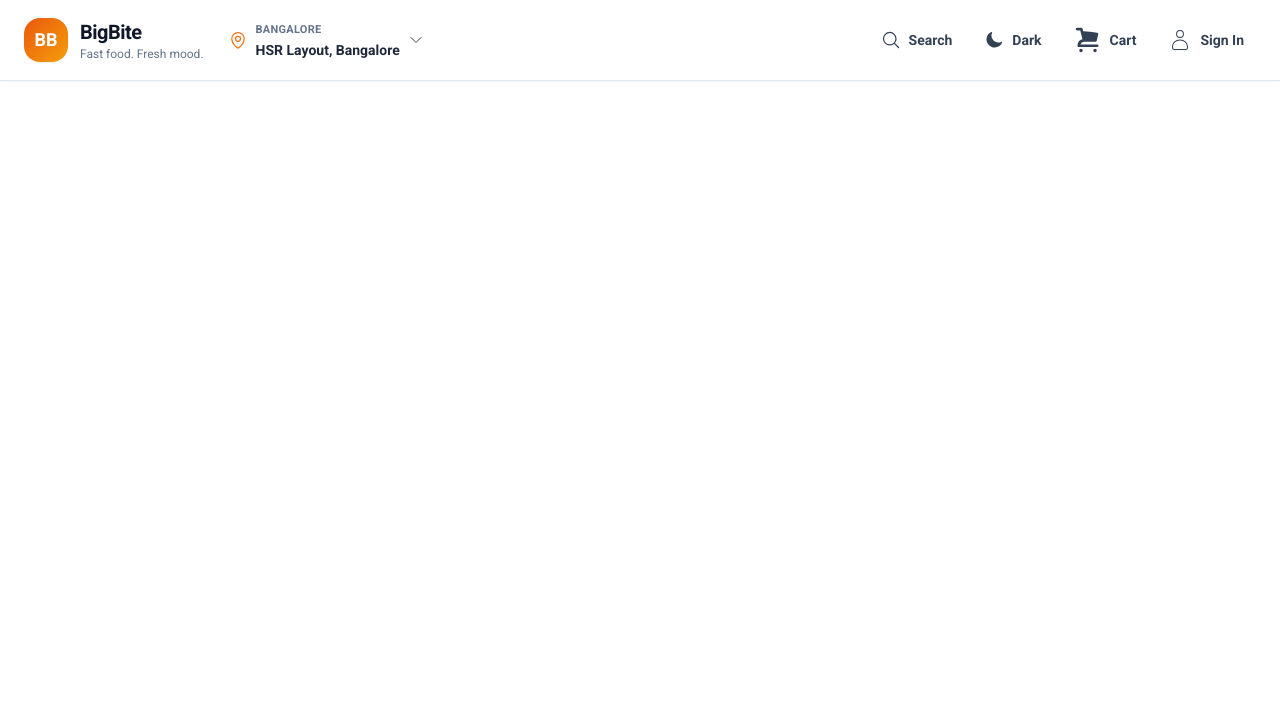
Scenario: Header Component › renders cart panel when cart is clicked while logged out
Click the button "Cart" at [1105, 40], box [1062,18,1148,62]
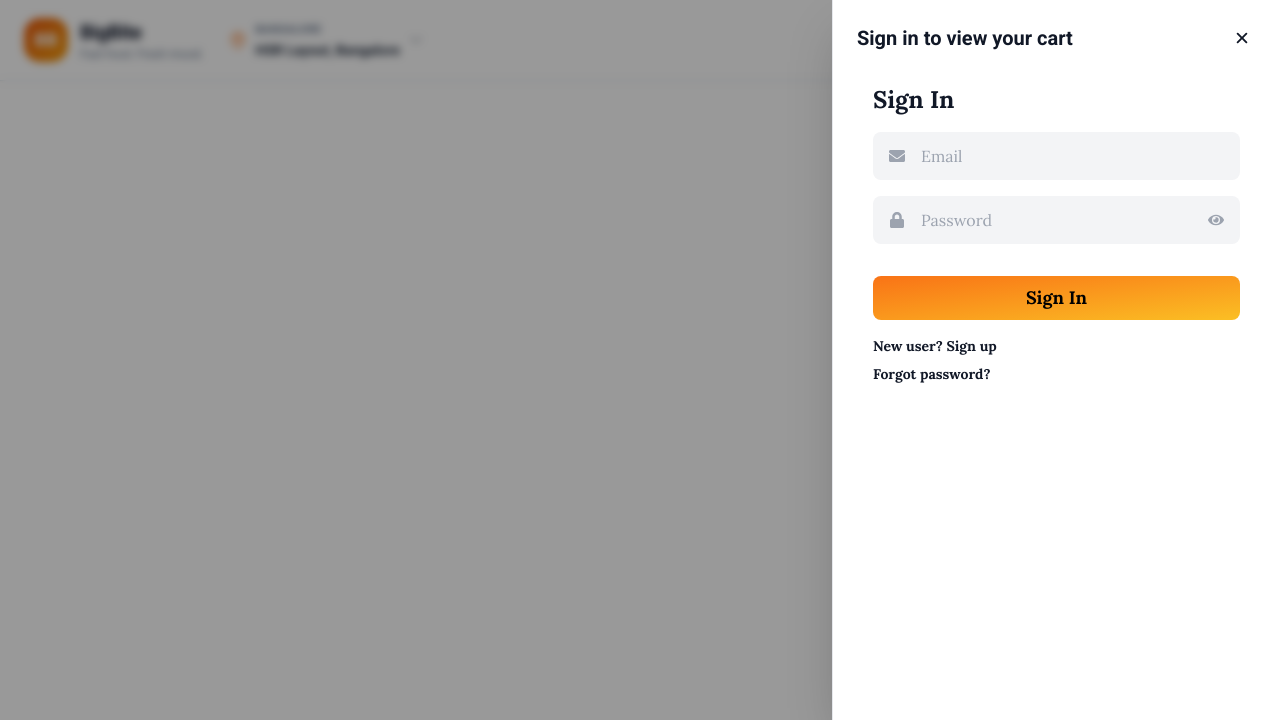
Now the element with test id "auth-panel" is shown
Now the heading "Sign in to view your cart" is shown, box [857,24,1073,52]
